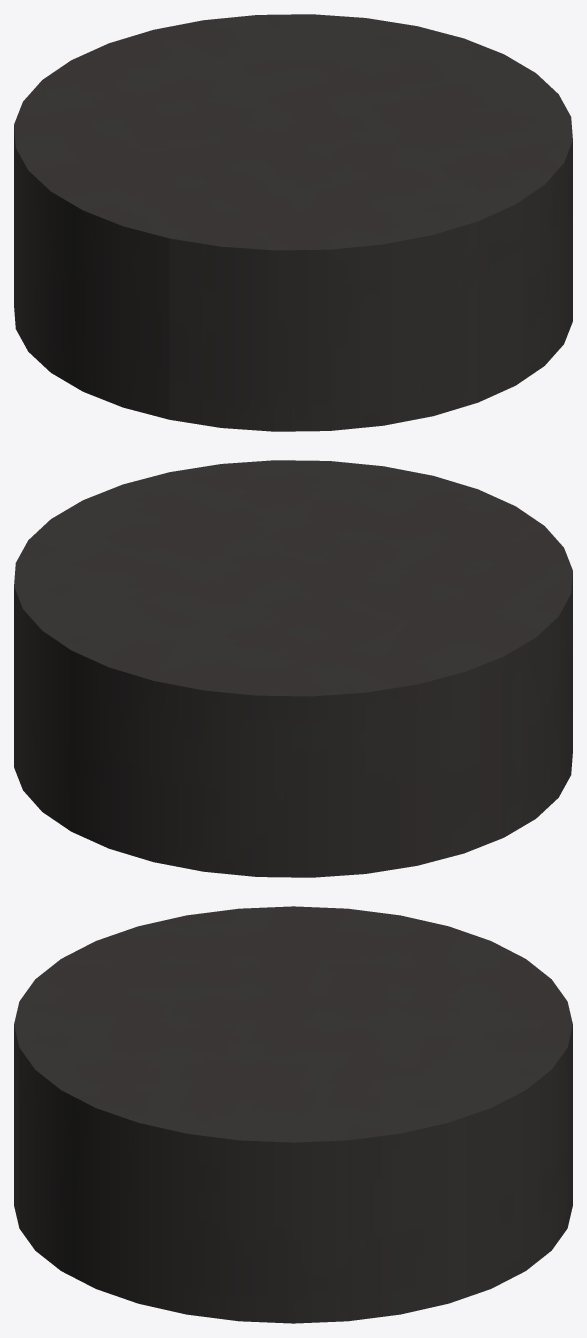
Rendered from frame__selector_hole_2.glb.
3 views of the same model, one above another, from view 1: azimuth 30°, elevation 25°; view 2: azimuth 150°, elevation 25°; view 3: azimuth 270°, elevation 25° (orthographic).
Visible parts, largest first — view 1: world; view 2: world; view 3: world.
Part boxes in pixels (x1,y1,x2,y2): world: [14, 14, 572, 431]; world: [14, 460, 572, 877]; world: [14, 906, 572, 1323].
Bounding box in the file's own units: 0.028 × 0.01 × 0.028.
1 material, 1 textured.
